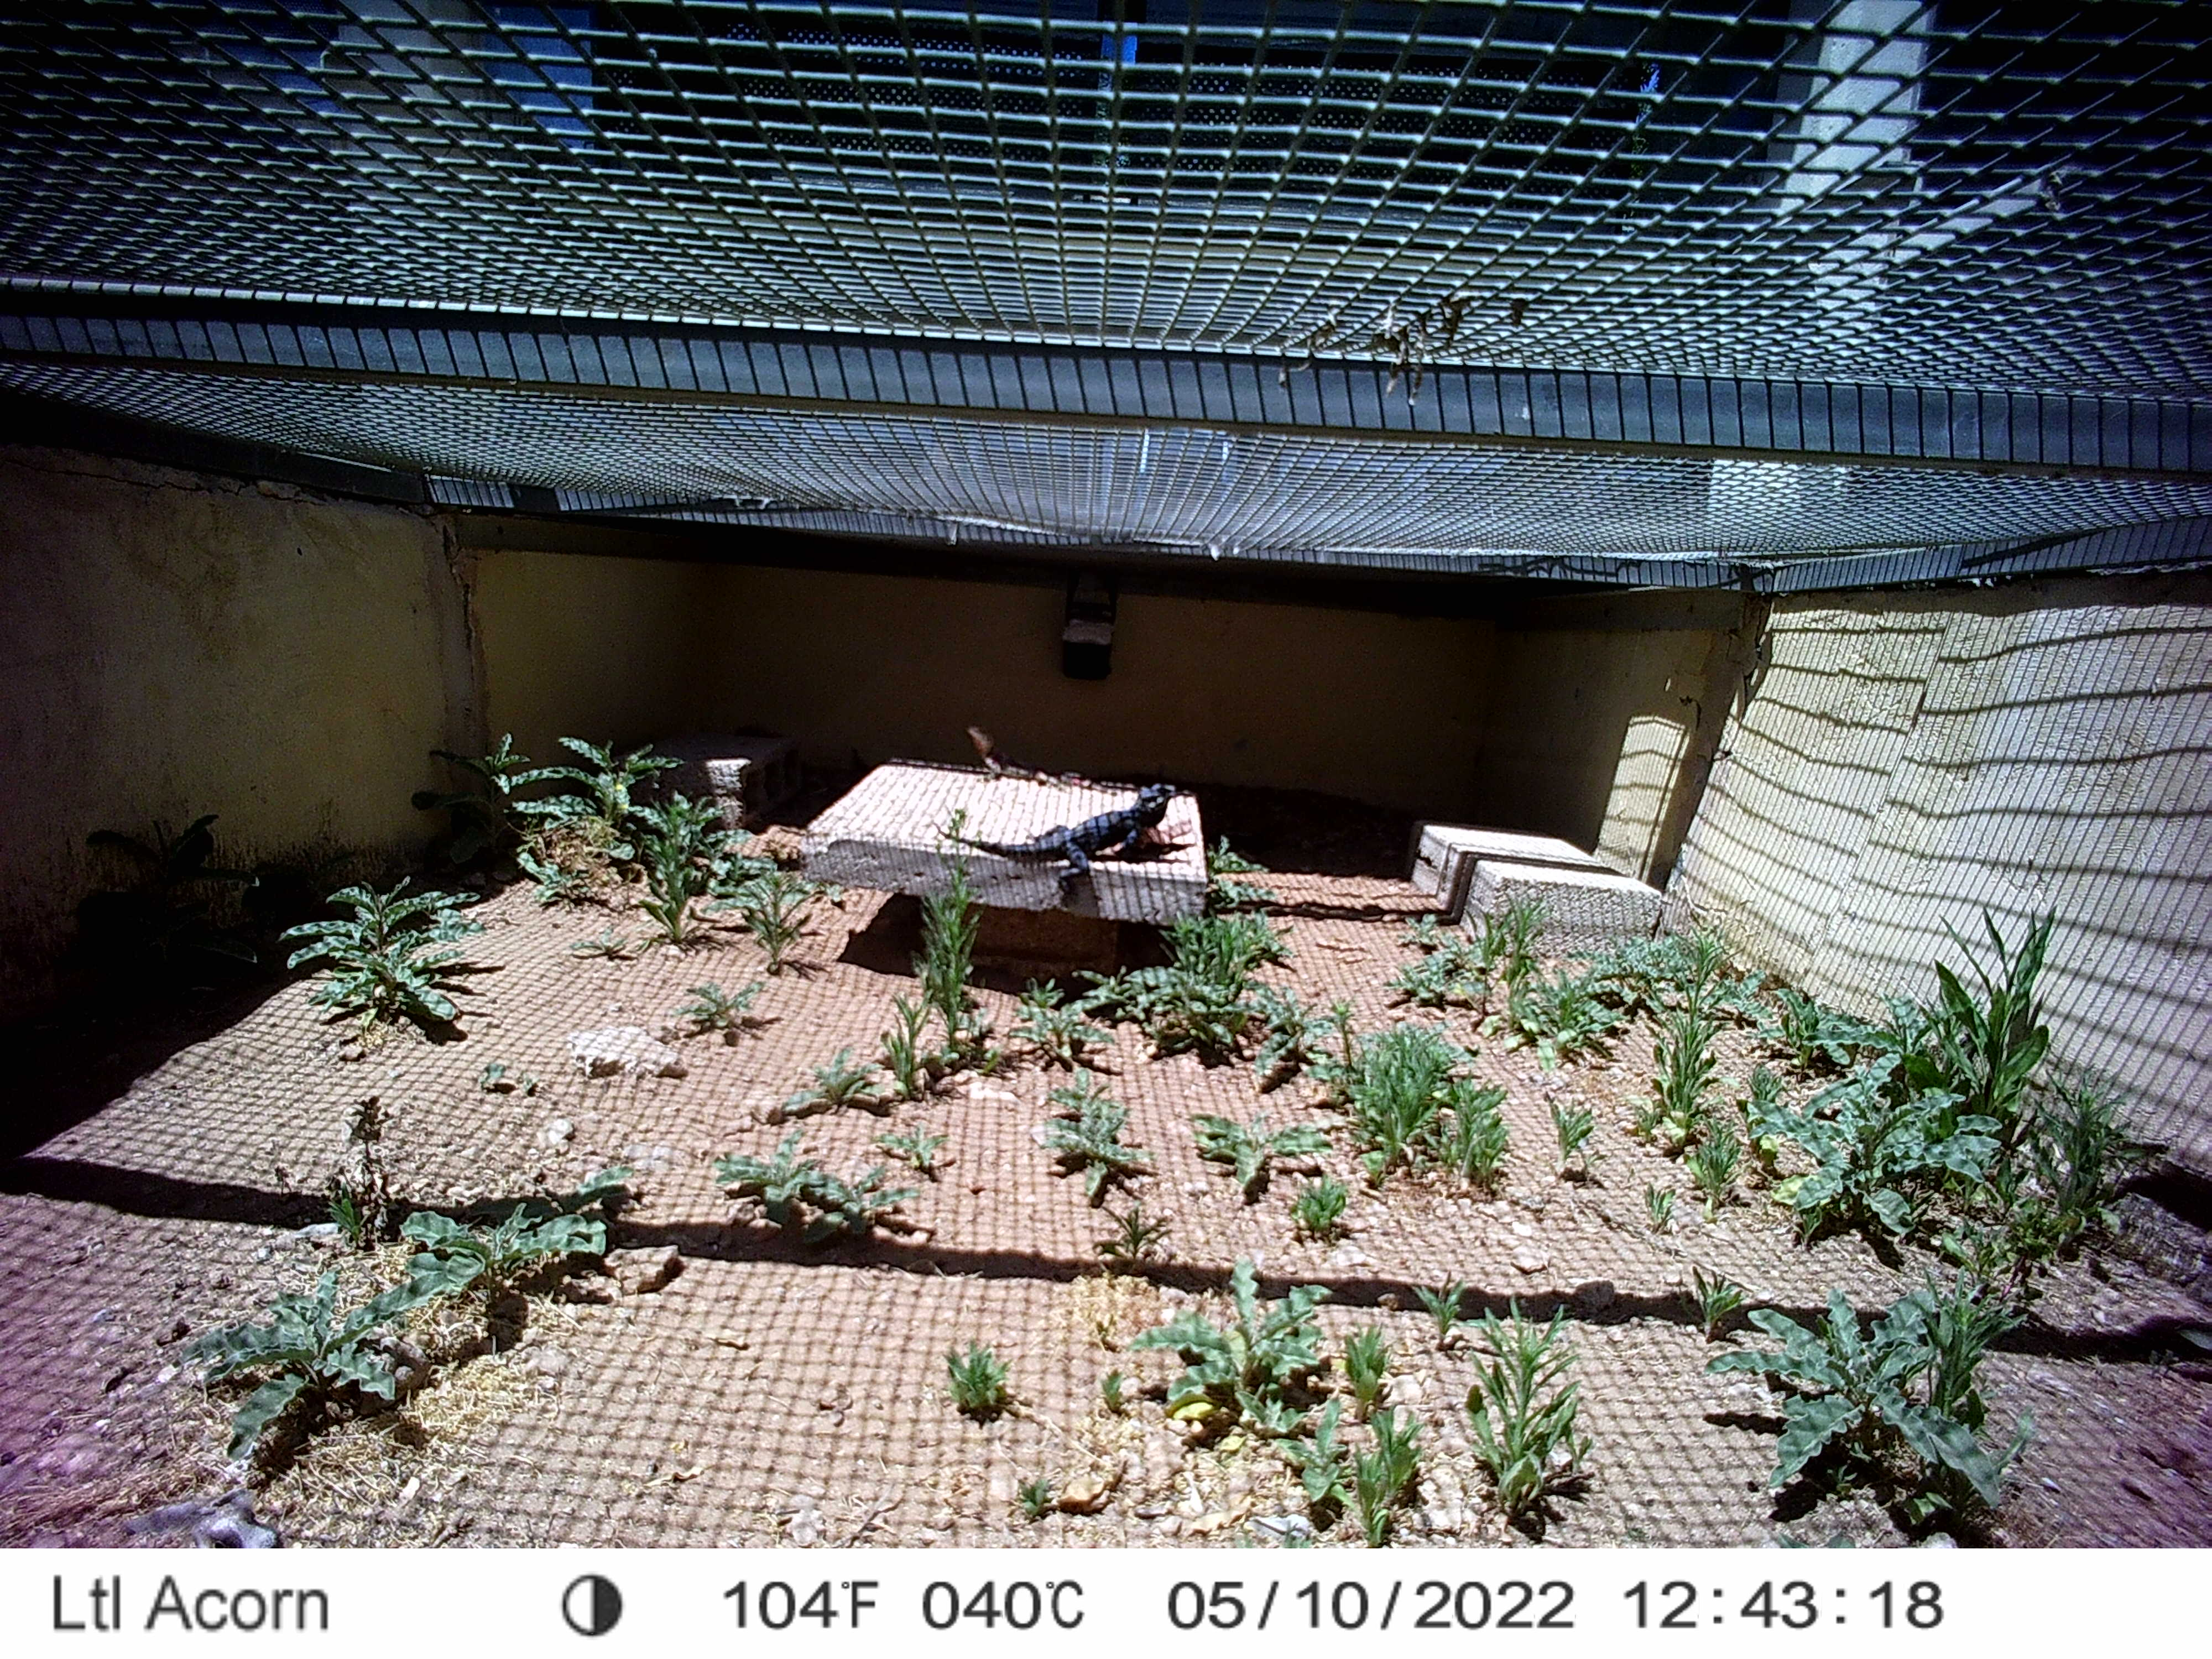lizard: (941, 784, 1183, 910), (960, 723, 1090, 793), (190, 1507, 305, 1544)
